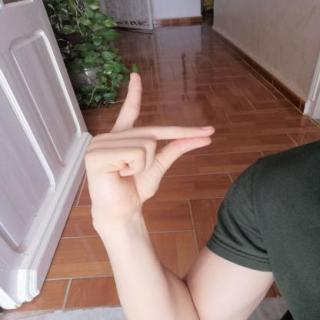TAA: (74, 64, 221, 224)
